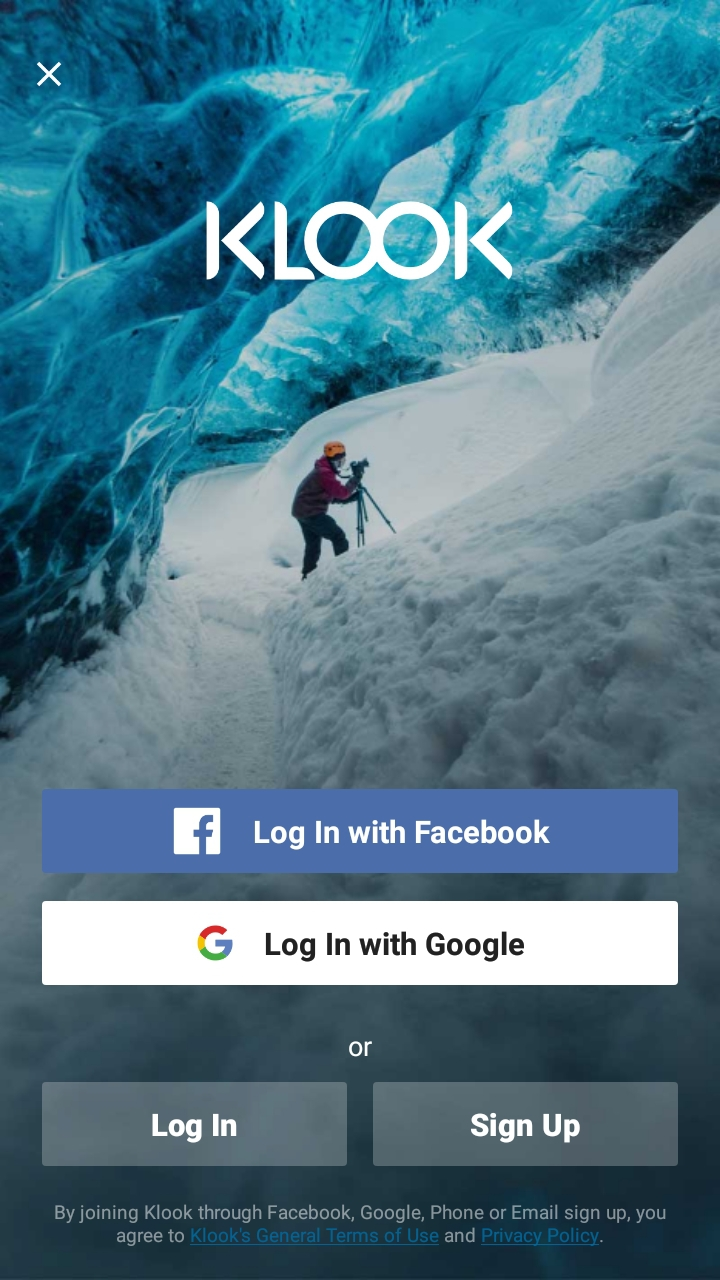BackgroundImage: (1, 1, 720, 1280)
Icon: (37, 63, 62, 88)
Image: (206, 201, 514, 282)
Text: (56, 1204, 666, 1247), (349, 1041, 374, 1058)
TextButton: (42, 901, 678, 986), (42, 790, 678, 874), (42, 1082, 348, 1167), (373, 1081, 678, 1166)
